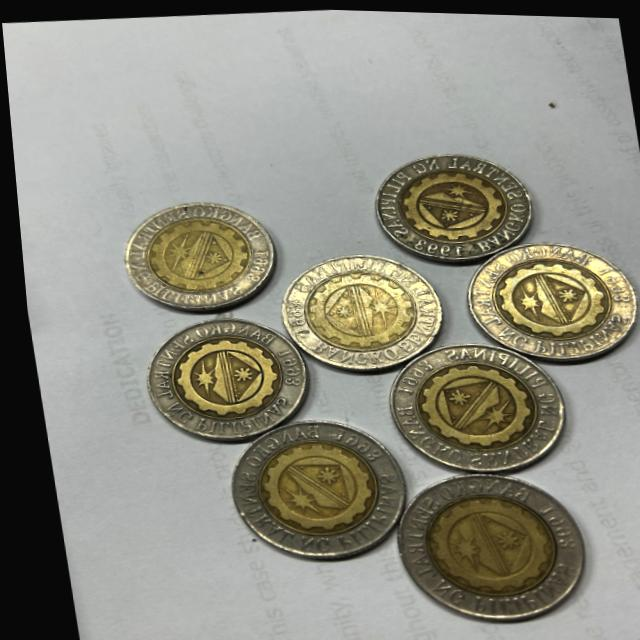10_Old_Back: (373, 462, 580, 611), (373, 334, 551, 467), (225, 416, 386, 562), (131, 312, 295, 433), (275, 248, 437, 364), (469, 234, 622, 356), (368, 145, 522, 261), (115, 199, 264, 303)
